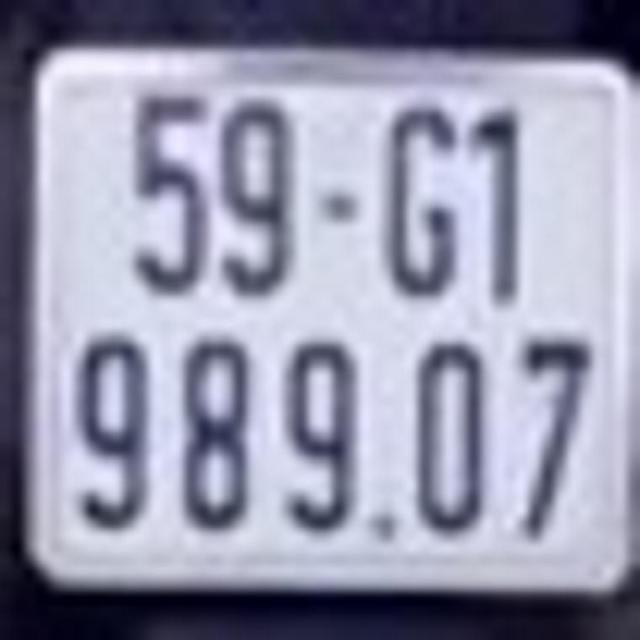0: (414, 342, 485, 535)
1: (468, 111, 519, 307)
5: (131, 91, 208, 295)
7: (515, 337, 592, 538)
8: (179, 338, 249, 533)
9: (219, 100, 293, 300), (283, 340, 356, 532), (78, 337, 150, 529)
G: (383, 99, 461, 295)
